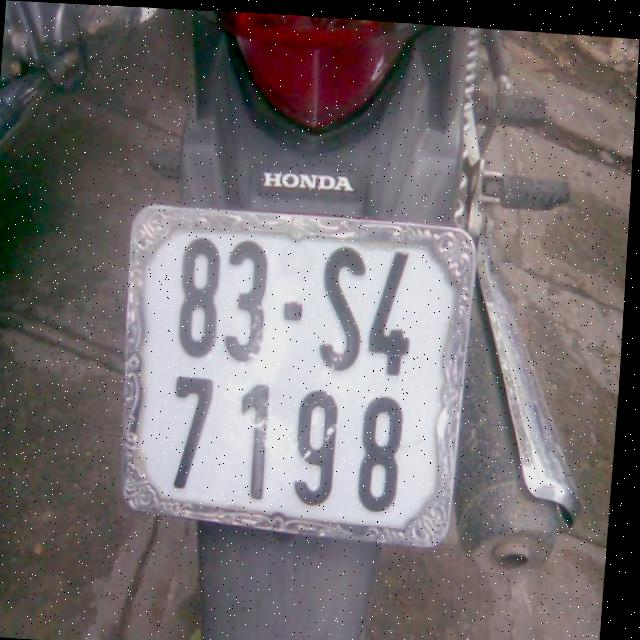motorcycle: (75, 6, 622, 640)
plate: (106, 203, 475, 556)
